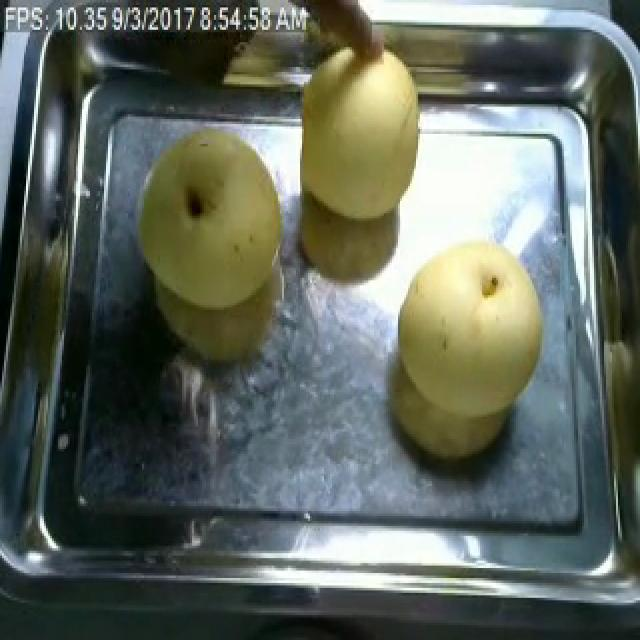Fruit: (382, 226, 556, 471), (122, 114, 300, 323), (302, 34, 430, 230)
